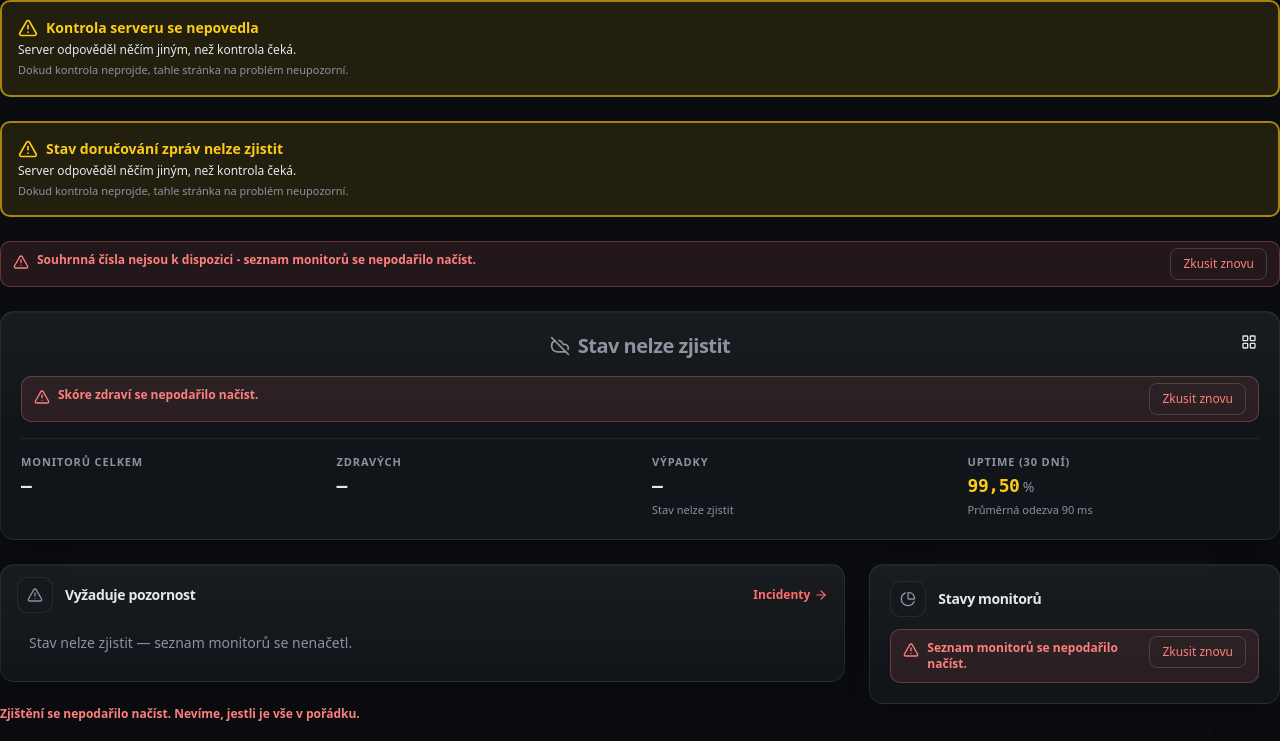
Test: Dashboard: žádné nuly před daty ani po selhání (W1-A4) › seznam monitorů vrací 500: pomlčky, chyba s opakováním, a po opakování skutečná čísla
Check: the text "—" below "Výpadky" is shown, box [652, 475, 662, 496]
Check: the text "—" below "Monitorů celkem" is shown, box [21, 475, 31, 496]
Click the 1st button "Zkusit znovu" at (1219, 264), box [1170, 248, 1267, 280]
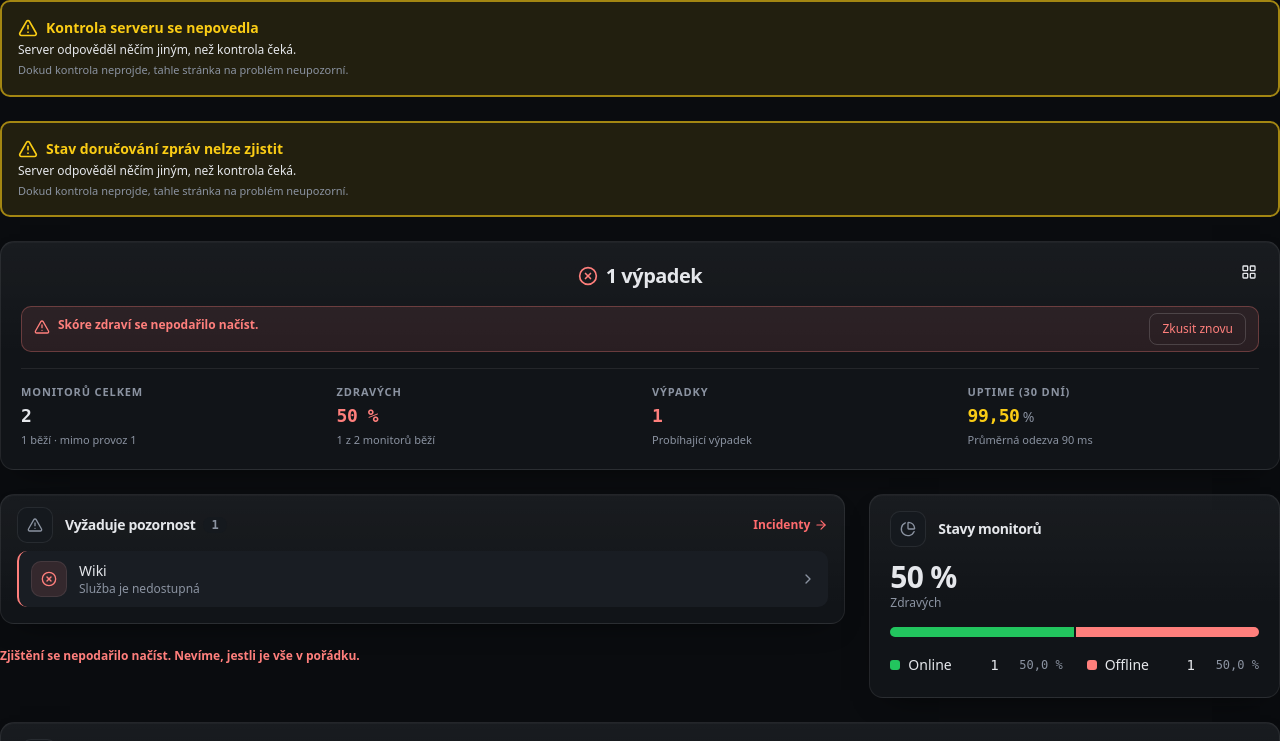
Check: the text "1" below "Výpadky" is shown, box [652, 405, 662, 426]
Check: the text "Souhrnná čísla nejsou k dispozici" is gone
Check: the element with test id "fleet-verdict-sentence" reads "1 výpadek", box [606, 262, 702, 289]
